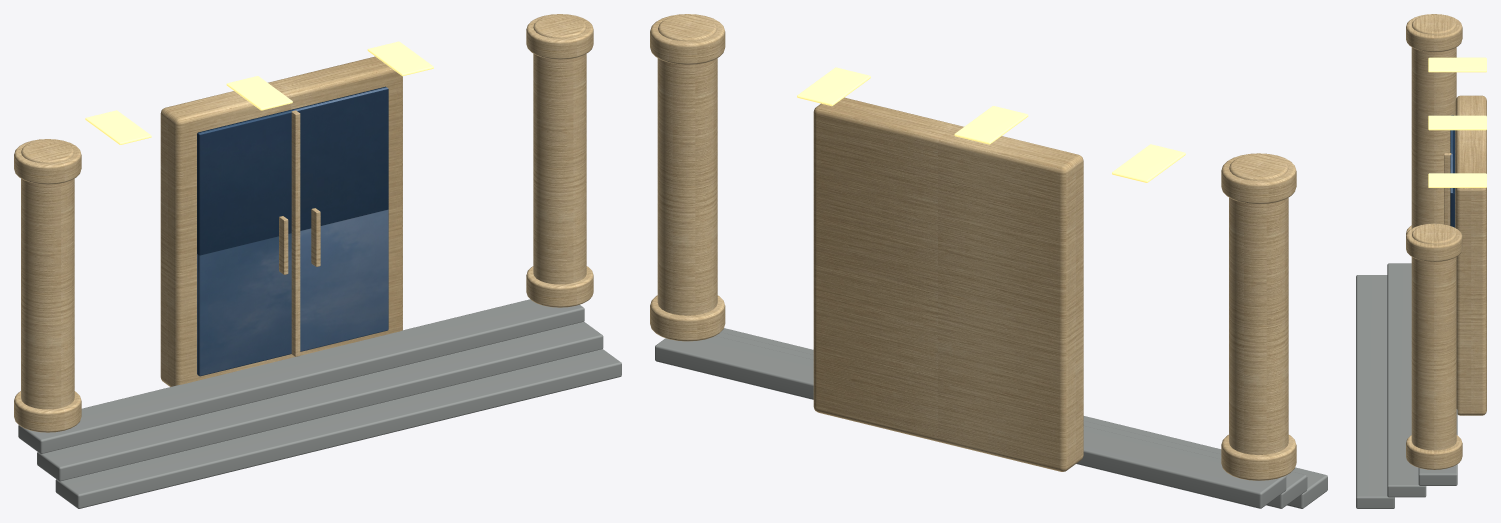
File: entrance.glb
3 views of the same model, side by side, from view 1: azimuth 30°, elevation 25°; view 2: azimuth 150°, elevation 25°; view 3: azimuth 270°, elevation 25° (orthographic). The views are drawn at different scales.
Visible parts, largest first — view 1: entrance; view 2: entrance; view 3: entrance.
Part boxes in pixels (box(x1,y1,x2,y2)): entrance: box(14, 14, 621, 508); entrance: box(650, 14, 1327, 508); entrance: box(1356, 14, 1486, 508).
Size of the model in its own units: 2.83 by 1.52 by 0.67.
Materials: 4 (2 with a texture image).
